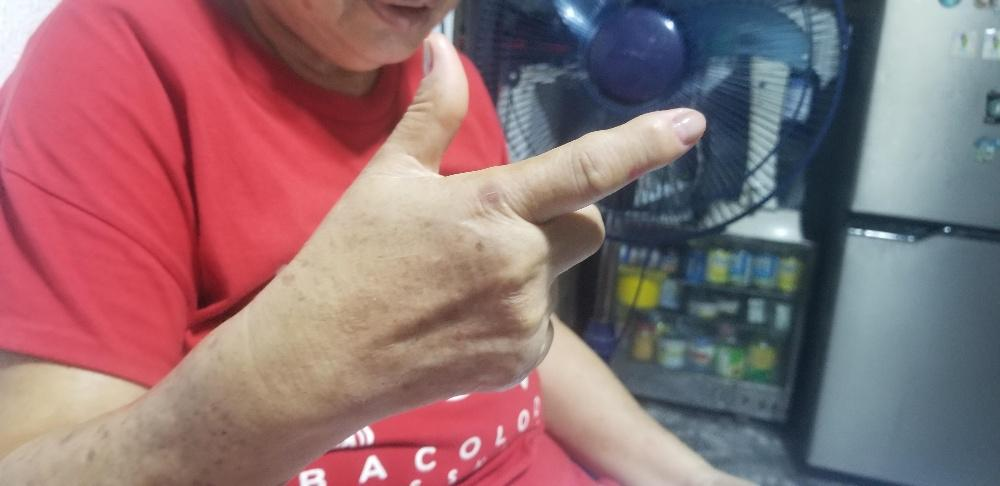g: (336, 32, 707, 394)
